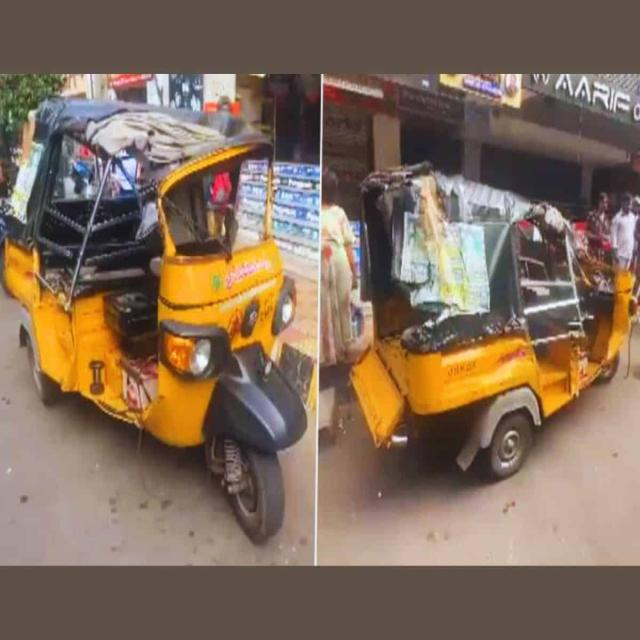accident: (0, 100, 315, 543), (350, 163, 632, 478)
